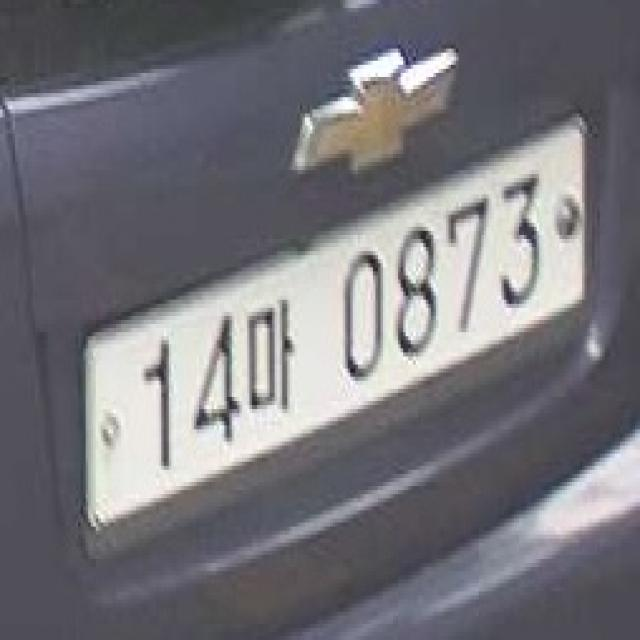0: (338, 239, 390, 397)
1: (139, 320, 184, 482)
3: (494, 158, 549, 328)
4: (192, 300, 244, 466)
7: (441, 178, 496, 348)
8: (390, 210, 441, 377)
license_plate: (70, 97, 600, 571)
ma: (245, 288, 302, 430)
